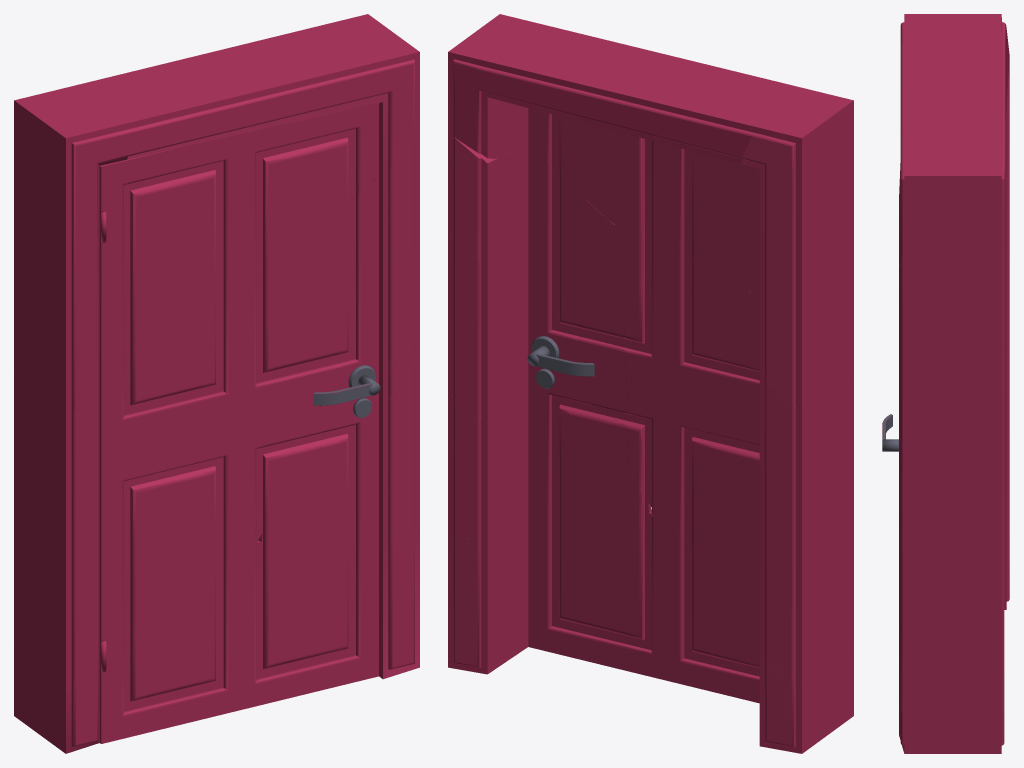
File: DoorShatter.fbx
The picture shows the model from 3 angles, left to right: view 1: azimuth 30°, elevation 25°; view 2: azimuth 150°, elevation 25°; view 3: azimuth 270°, elevation 25°; orthographic projection. The views are drawn at different scales.
Visible parts, largest first — view 1: Door_cell.022, Door_cell.027, Door_cell.002, Door_cell.017, Door_cell.025, Door_cell.005, Door_cell.018, Door_cell.030, Door_cell.024, Door_cell.021, Door_cell.028, Door_cell.004 (+4 smaller); view 2: Door_cell.022, Door_cell.027, Door_cell.002, Door_cell.025, Door_cell.005, Door_cell.018, Door_cell.017, Door_cell.029, Door_cell.004, Door_cell.007, Door_cell.021, Door_cell.016 (+4 smaller); view 3: Door_cell.002, Door_cell.018, Door_cell.004, Door_cell.029, Door_cell.007, Door_cell.025, Door_cell.005, Door_cell.011, Door_cell.028.
Boxes of the visible parts, x1,y1,x2,y2 form: Door_cell.022: (99, 255, 291, 654); Door_cell.027: (99, 533, 378, 743); Door_cell.002: (60, 14, 419, 177); Door_cell.017: (127, 103, 378, 299); Door_cell.025: (14, 89, 128, 415); Door_cell.005: (14, 373, 99, 682); Door_cell.018: (326, 137, 419, 390); Door_cell.030: (253, 223, 334, 546); Door_cell.024: (99, 159, 181, 378); Door_cell.021: (258, 403, 378, 542); Door_cell.028: (14, 645, 99, 753); Door_cell.004: (379, 363, 419, 535); Door_cell.022: (613, 224, 759, 592); Door_cell.027: (528, 505, 759, 703); Door_cell.002: (448, 14, 802, 163); Door_cell.025: (741, 88, 853, 410); Door_cell.005: (759, 374, 853, 682); Door_cell.018: (448, 129, 584, 376); Door_cell.017: (528, 108, 759, 270); Door_cell.029: (448, 505, 528, 674); Door_cell.004: (448, 372, 528, 538); Door_cell.007: (448, 234, 525, 420); Door_cell.021: (528, 373, 650, 514); Door_cell.016: (575, 199, 628, 472); Door_cell.002: (899, 35, 1008, 265); Door_cell.018: (899, 248, 1004, 445); Door_cell.004: (899, 468, 1004, 630); Door_cell.029: (899, 601, 1004, 753); Door_cell.007: (926, 344, 1004, 497); Door_cell.025: (900, 14, 1009, 261); Door_cell.005: (1004, 260, 1009, 525); Door_cell.011: (899, 443, 941, 478); Door_cell.028: (1004, 525, 1009, 609).
Bounding box in the file's own units: 2114 × 3513 × 703.
